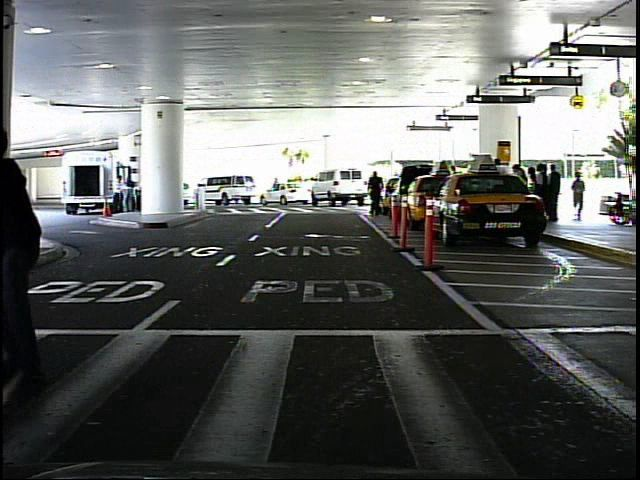person: (363, 169, 386, 219), (571, 172, 590, 221), (108, 174, 125, 215)
